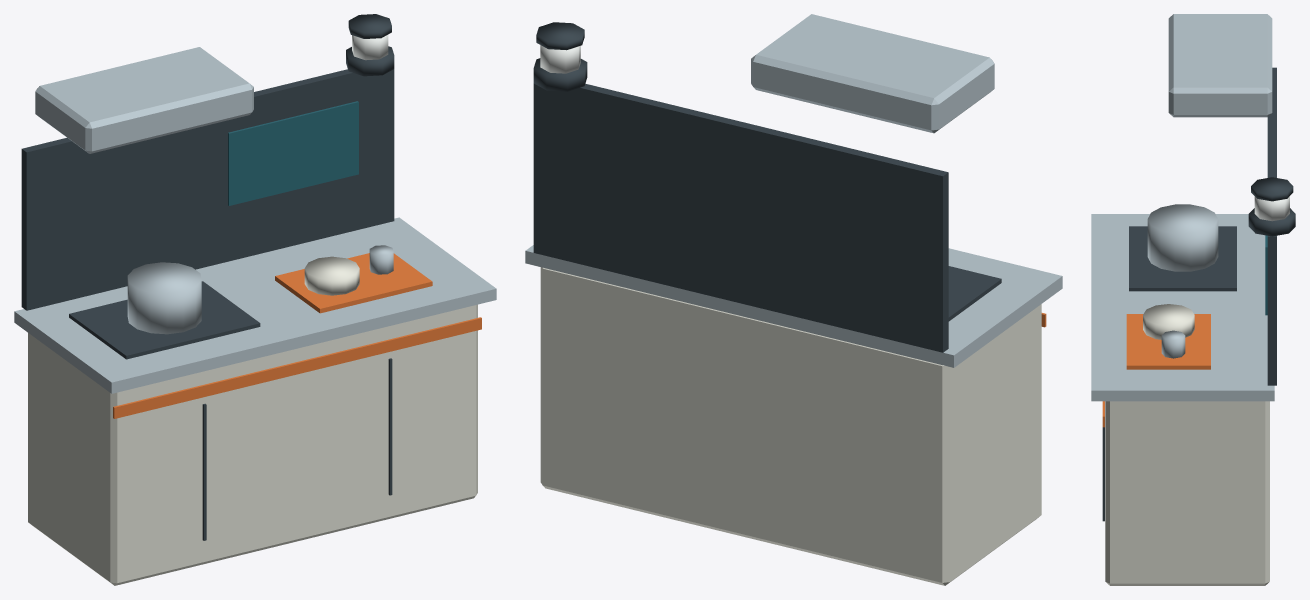
Rendered from galley.glb.
3 views of the same model, side by side, from view 1: azimuth 30°, elevation 25°; view 2: azimuth 150°, elevation 25°; view 3: azimuth 270°, elevation 25° (orthographic). The views are drawn at different scales.
Parts seen in each view (by area): view 1: Galley, MealTray, Lamp.001; view 2: Galley, Lamp.001; view 3: Galley, MealTray, Lamp.001.
Boxes of the visible parts, bbox=[...] form: Galley: bbox=[14, 47, 496, 585]; MealTray: bbox=[275, 245, 432, 313]; Lamp.001: bbox=[346, 14, 394, 76]; Galley: bbox=[525, 14, 1062, 585]; Lamp.001: bbox=[533, 22, 587, 91]; Galley: bbox=[1091, 14, 1276, 585]; MealTray: bbox=[1126, 304, 1210, 369]; Lamp.001: bbox=[1248, 177, 1295, 236].
Bounding box in the file's own units: 1.78 × 1.93 × 0.87.
